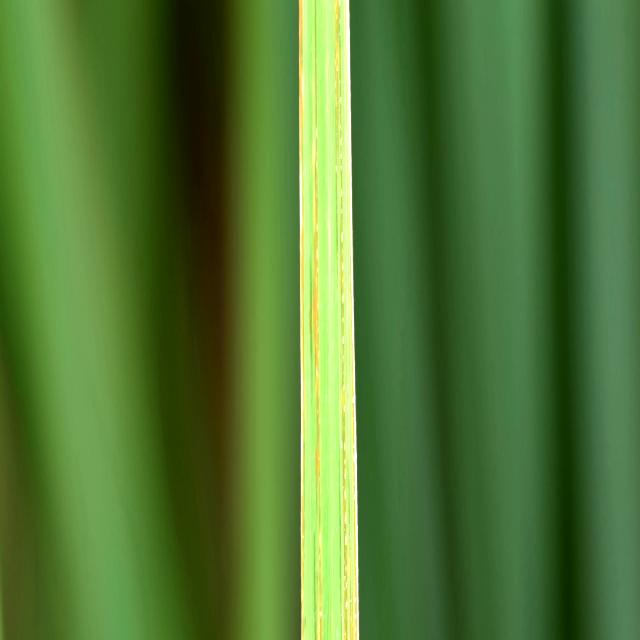BLS: (339, 2, 359, 640), (313, 2, 324, 640), (299, 0, 306, 640), (334, 1, 340, 266)
